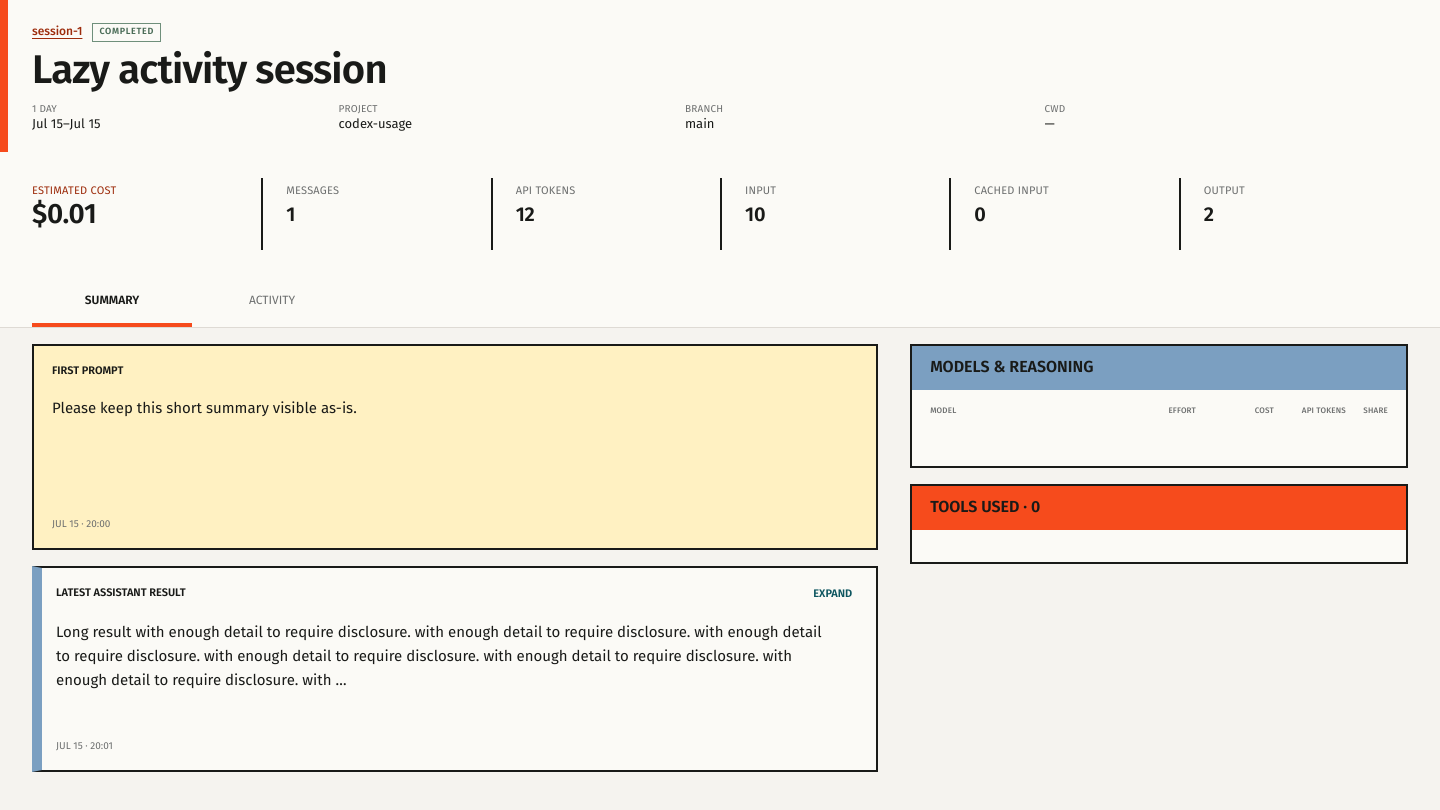
Test case: SessionDetailPage activity › offers summary disclosure only when the text is actually truncated
Expected: the text "Please keep this short summary visible as-is." is shown, x1=52 y1=399 x2=357 y2=417
Click the button "EXPAND".
click(833, 594)  # box x1=807 y1=585 x2=858 y2=602
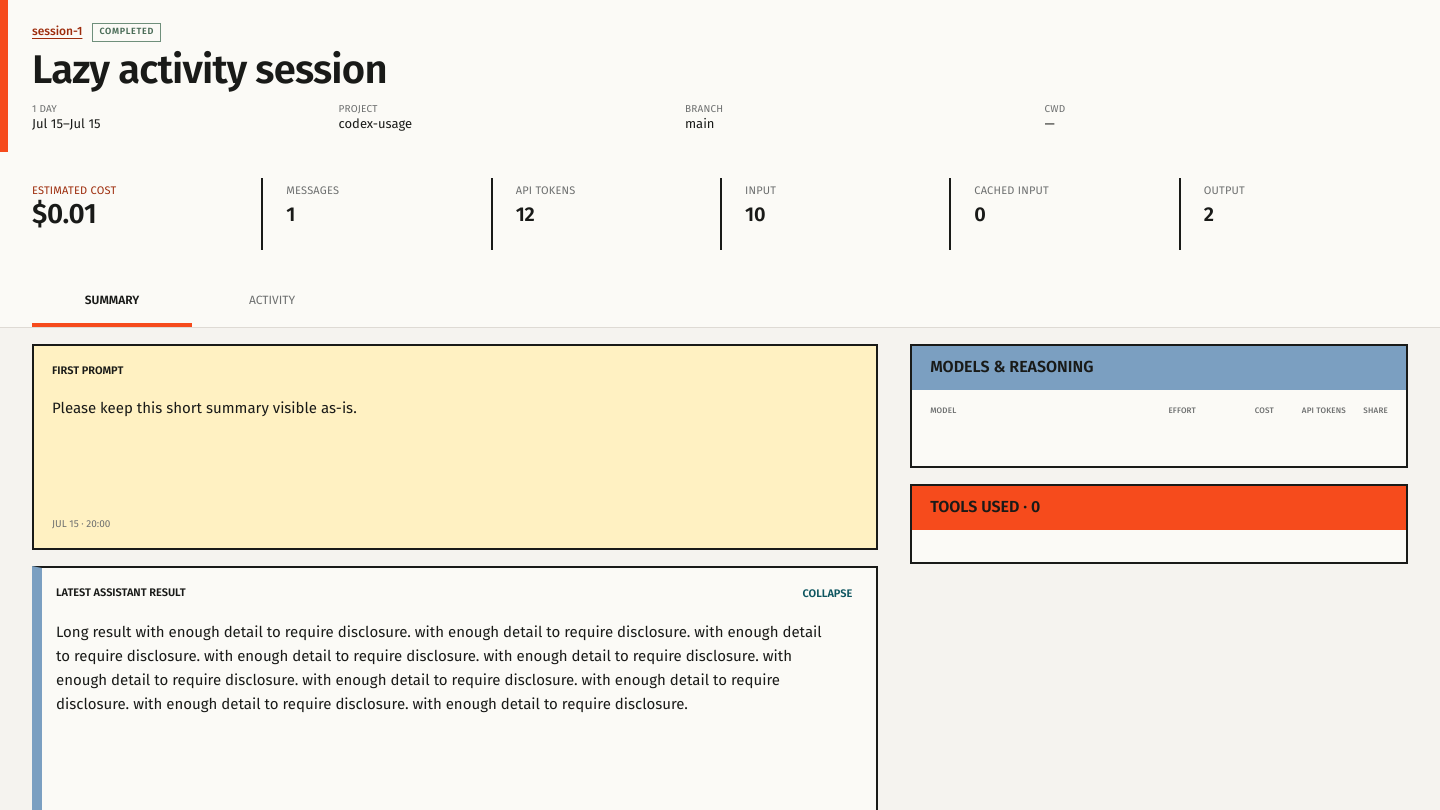
Now the button "COLLAPSE" is expanded, box x1=796 y1=585 x2=858 y2=602
